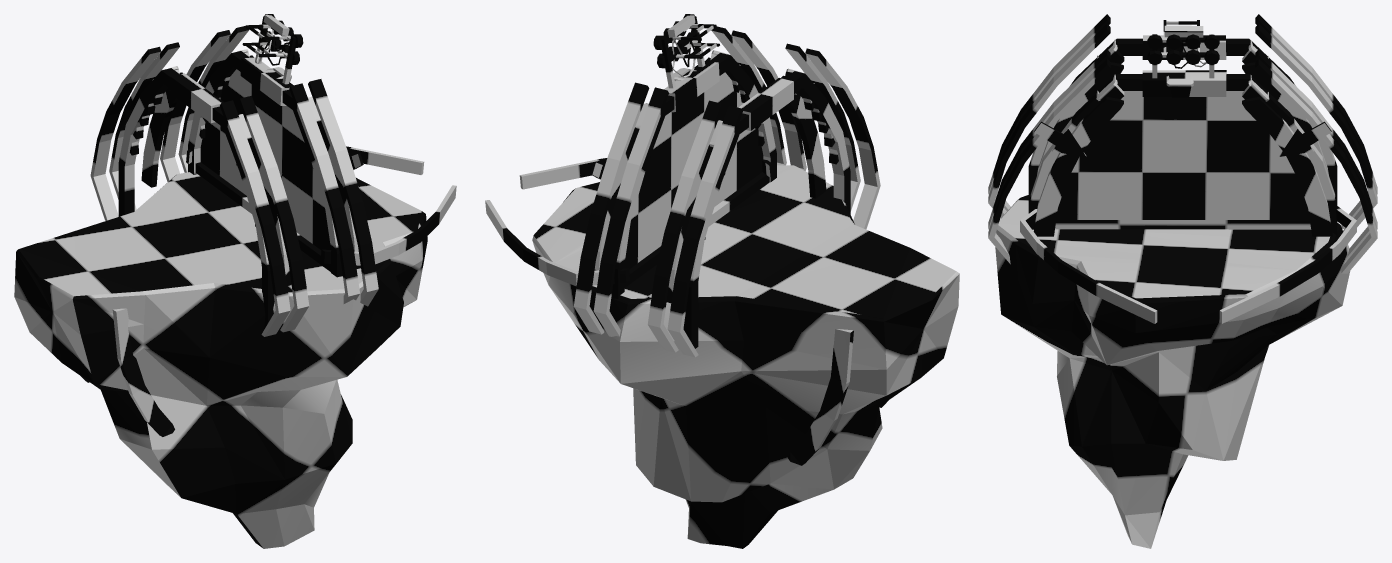
Rendered from eventgate_soccer.obj.
3 views of the same model, side by side, from view 1: azimuth 30°, elevation 25°; view 2: azimuth 150°, elevation 25°; view 3: azimuth 270°, elevation 25° (orthographic). The views are drawn at different scales.
Visible parts, largest first — view 1: eventgate_soccer; view 2: eventgate_soccer; view 3: eventgate_soccer.
Boxes of the visible parts, left/top/right/bottom form: eventgate_soccer: left=14, top=14, right=456, bottom=548; eventgate_soccer: left=485, top=14, right=959, bottom=548; eventgate_soccer: left=988, top=14, right=1377, bottom=548.
Bounding box in the file's own units: 122 × 145 × 98.56.
1 material, 1 textured.
